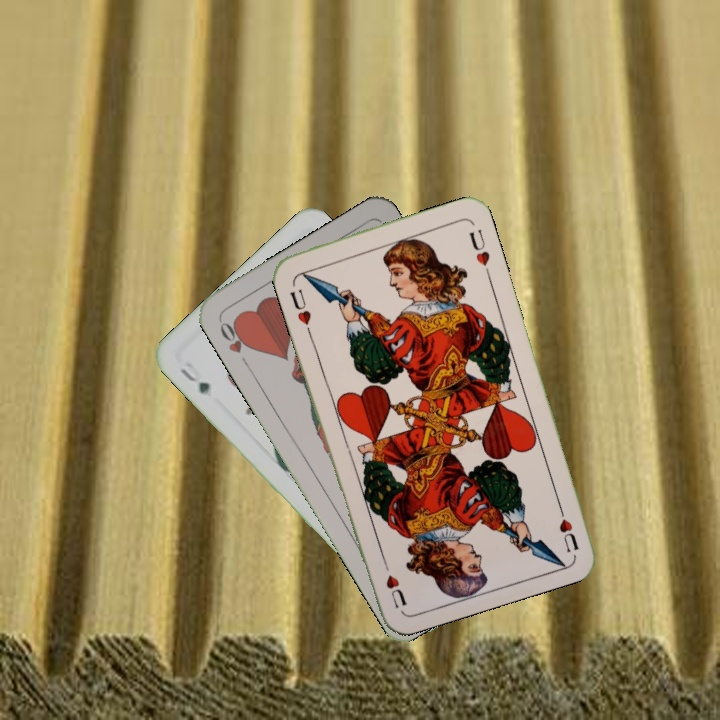GU: (176, 364, 213, 398)
HO: (215, 316, 254, 370)
HU: (553, 497, 582, 555), (285, 284, 314, 335)
